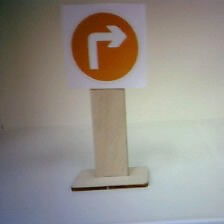right: (65, 11, 144, 84)
